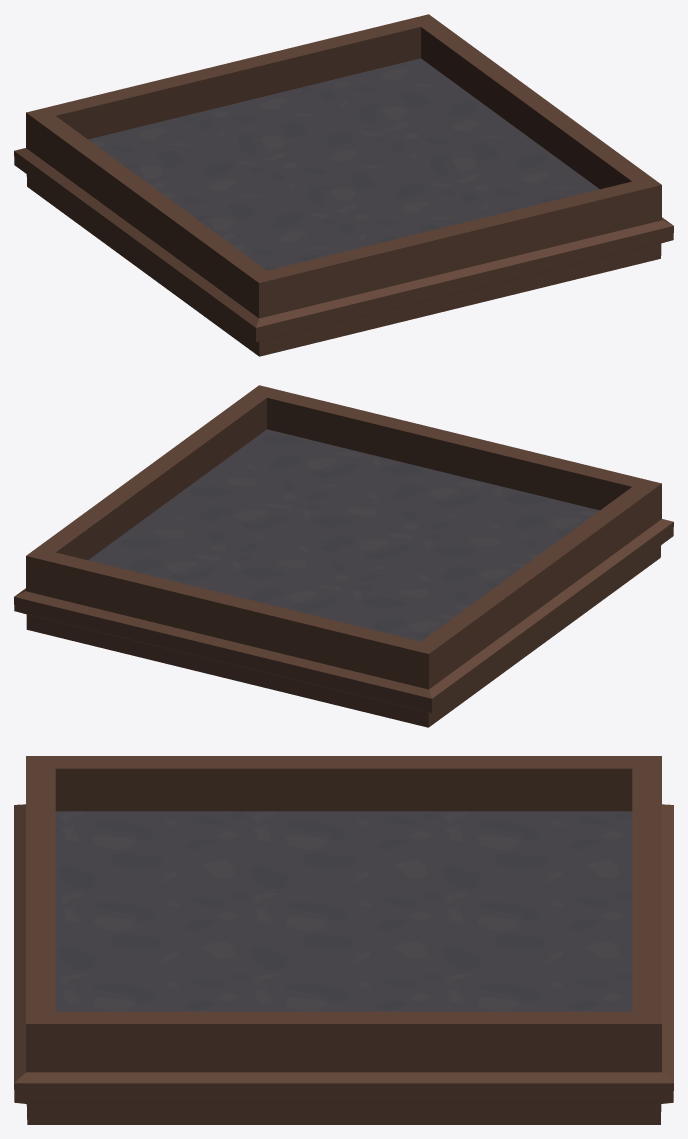
The model's file is RoofTop_E04.fbx.
3 renders of one model, top to bottom at view 1: azimuth 30°, elevation 25°; view 2: azimuth 150°, elevation 25°; view 3: azimuth 270°, elevation 25°, orthographic. The views are drawn at different scales.
Parts seen in each view (by area): view 1: RoofTop_E04; view 2: RoofTop_E04; view 3: RoofTop_E04.
Part boxes in pixels (x1,y1,x2,y2): RoofTop_E04: (14,14,673,356); RoofTop_E04: (14,385,673,727); RoofTop_E04: (14,756,673,1124).
Size of the model in its own units: 638 by 108 by 639.
